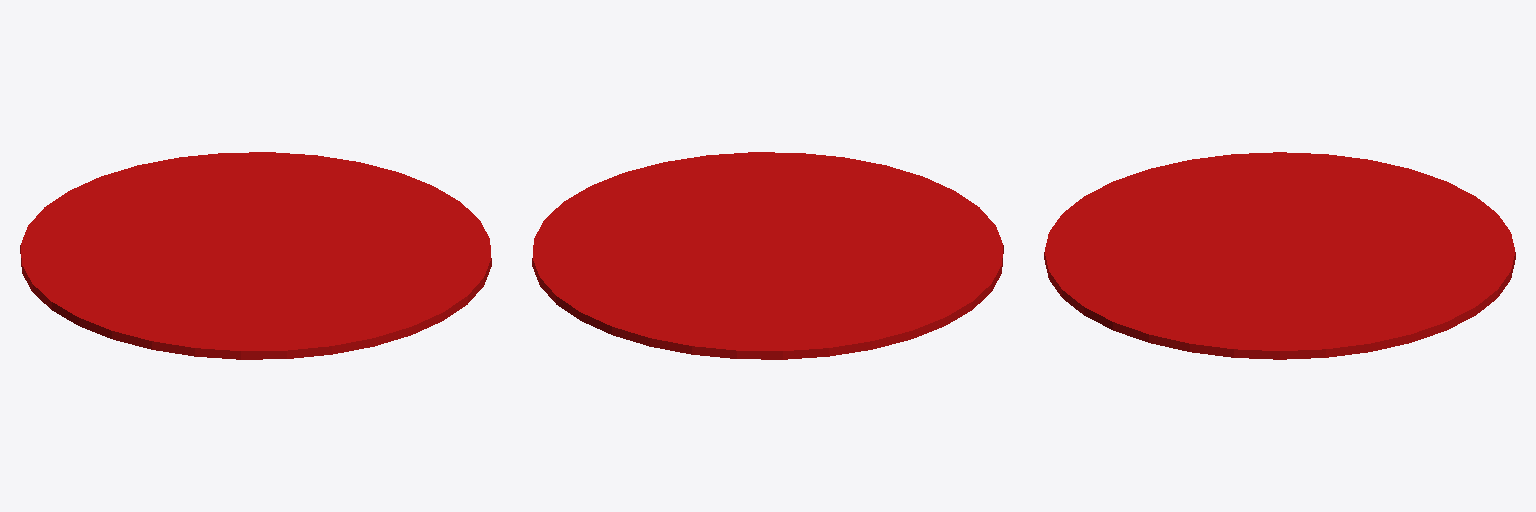
robot.urdf — landing_pad:
<?xml version="1.0"?>
<robot name="landing_pad">
  <material name="target_red">
    <color rgba="0.8 0.1 0.1 0.8"/>
  </material>

  <link name="base_link">
    <visual>
      <origin xyz="0 0 0.05" rpy="0 0 0"/>
      <geometry>
        <cylinder radius="2.5" length="0.1"/>
      </geometry>
      <material name="target_red"/>
    </visual>
    <collision>
      <origin xyz="0 0 0.05" rpy="0 0 0"/>
      <geometry>
        <cylinder radius="2.5" length="0.1"/>
      </geometry>
    </collision>
    <inertial>
      <mass value="1000.0"/>
      <inertia ixx="100" ixy="0" ixz="0" iyy="100" iyz="0" izz="100"/>
    </inertial>
  </link>
</robot>

--- Render facts (derived) ---
3 views of the same robot in one strip: view 1: azimuth 30°, elevation 25°; view 2: azimuth 150°, elevation 25°; view 3: azimuth 270°, elevation 25° (orthographic).
Robot: landing_pad — 1 links, 0 joints (none); root link base_link; default pose: all joints at 0.
Links seen in each view (by area): view 1: base_link; view 2: base_link; view 3: base_link.
Link boxes in pixels (<box>): base_link: <box>20,152,491,359</box>; base_link: <box>532,152,1003,359</box>; base_link: <box>1044,152,1515,359</box>.
Bounding box of the posed robot: 5 × 5 × 0.1 m (x, y, z).
Geometry: primitives only (box / cylinder / sphere), no mesh files.
